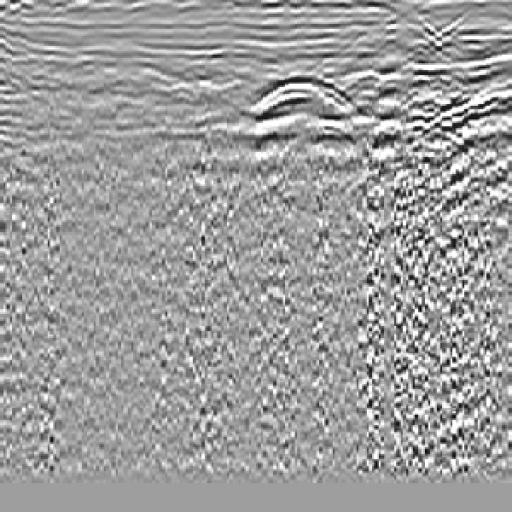metalic: (238, 53, 369, 123)
non-metallic: (404, 49, 512, 216)
